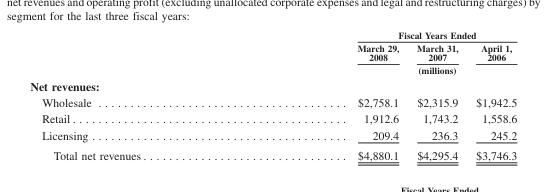table: (29, 29, 516, 161)
table column: (29, 29, 251, 161), (251, 29, 407, 161), (407, 29, 466, 161), (466, 29, 516, 161)
table column header: (29, 29, 516, 76)
table projected row header: (29, 76, 516, 93)
table row: (29, 41, 516, 63), (29, 126, 516, 144), (29, 76, 516, 93), (29, 93, 516, 110), (29, 144, 516, 161), (29, 110, 516, 126), (29, 63, 516, 76), (29, 29, 516, 41)
table spanning cell: (251, 63, 516, 76), (251, 29, 516, 41)
